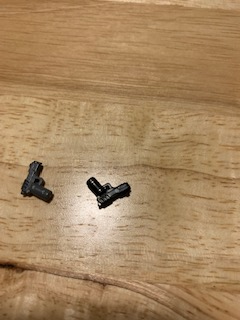pistol: (85, 174, 134, 213), (19, 160, 58, 204)
